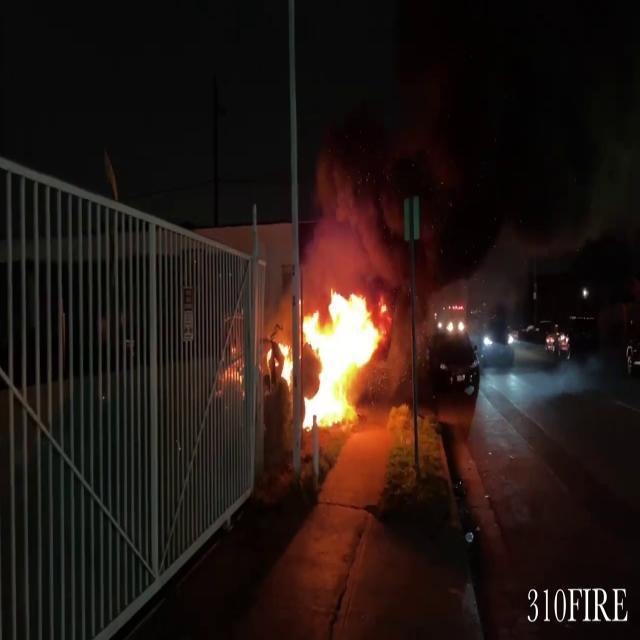Fire: (296, 282, 388, 434)
Smoke: (304, 138, 399, 290)
